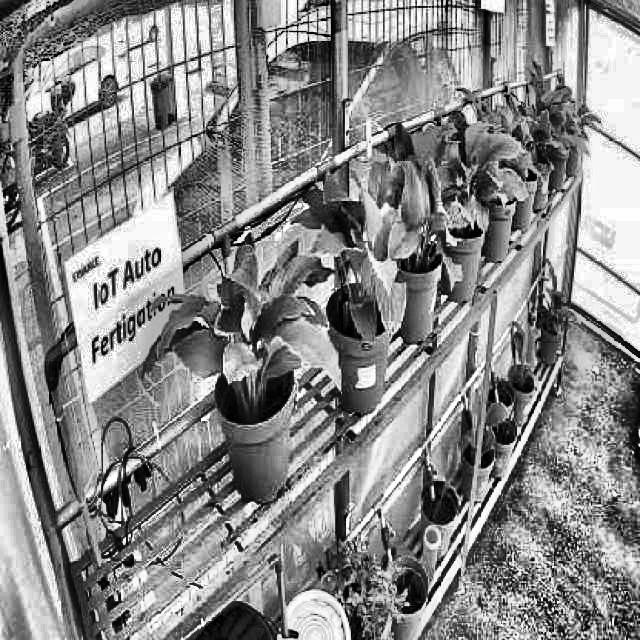plants: (142, 233, 346, 416), (297, 169, 408, 346), (368, 134, 463, 292), (430, 108, 528, 232)
